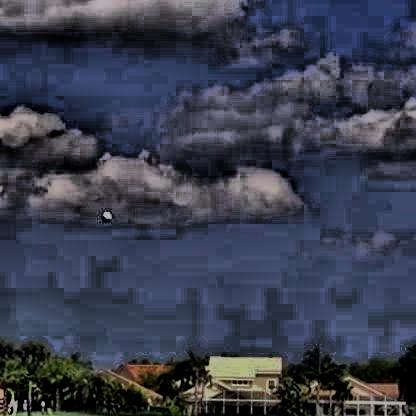golfball: (98, 207, 109, 219)
